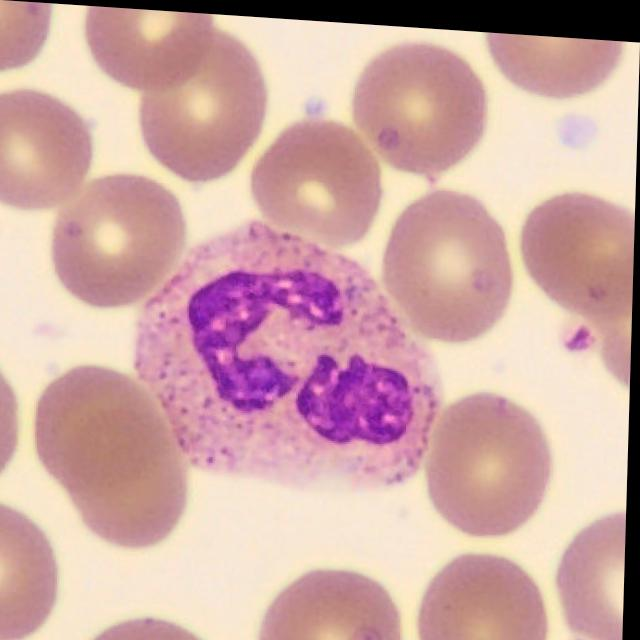Neutrofilo segmentado: (136, 219, 443, 491)
